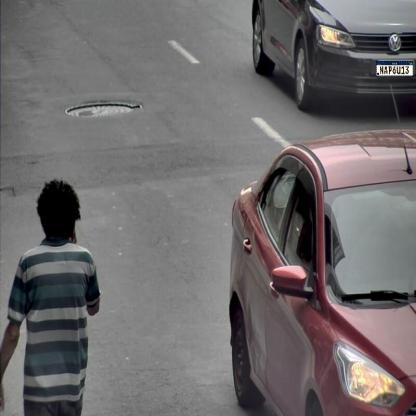PlacaM: (376, 61, 413, 76)
